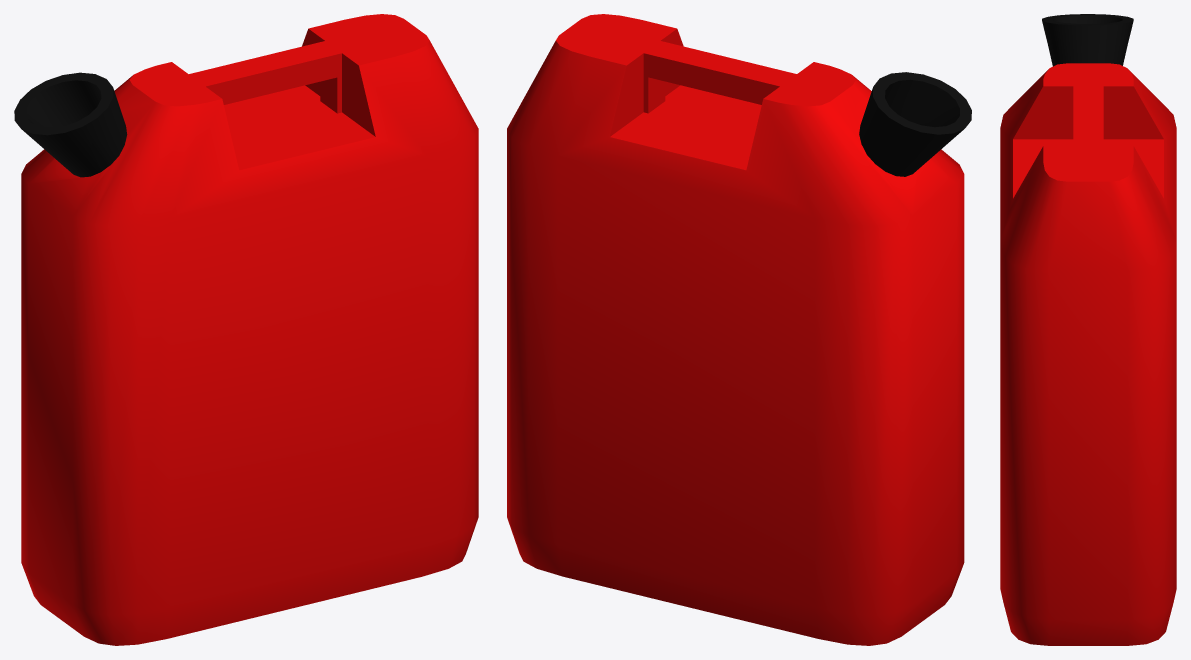
Rendered from BidonGasolinaMEDIANO.fbx.
The picture shows the model from 3 angles, left to right: view 1: azimuth 30°, elevation 25°; view 2: azimuth 150°, elevation 25°; view 3: azimuth 270°, elevation 25°; orthographic projection. The views are drawn at different scales.
Parts seen in each view (by area): view 1: Box001; view 2: Box001; view 3: Box001.
Part boxes in pixels (bbox=[...]): Box001: bbox=[14, 14, 478, 645]; Box001: bbox=[507, 14, 971, 645]; Box001: bbox=[1000, 14, 1176, 645].
Size of the model in its own units: 10.68 by 12.94 by 4.26.
